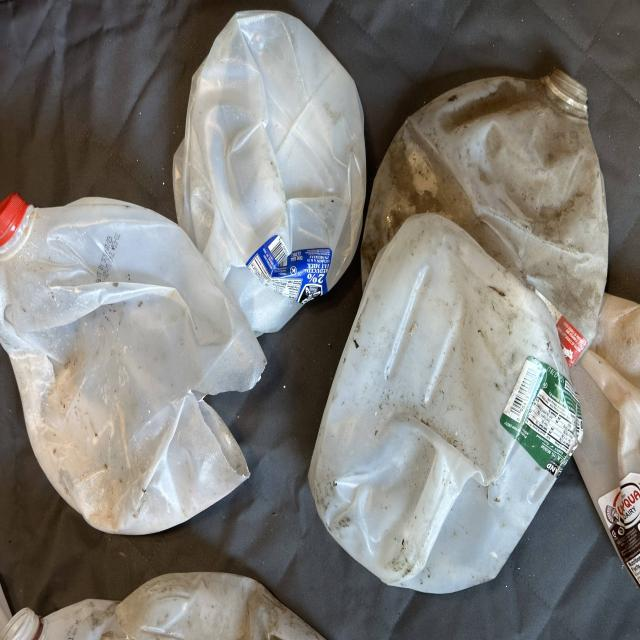milk-jug: (312, 218, 576, 596), (0, 189, 263, 536), (174, 11, 370, 337), (371, 66, 610, 333)
